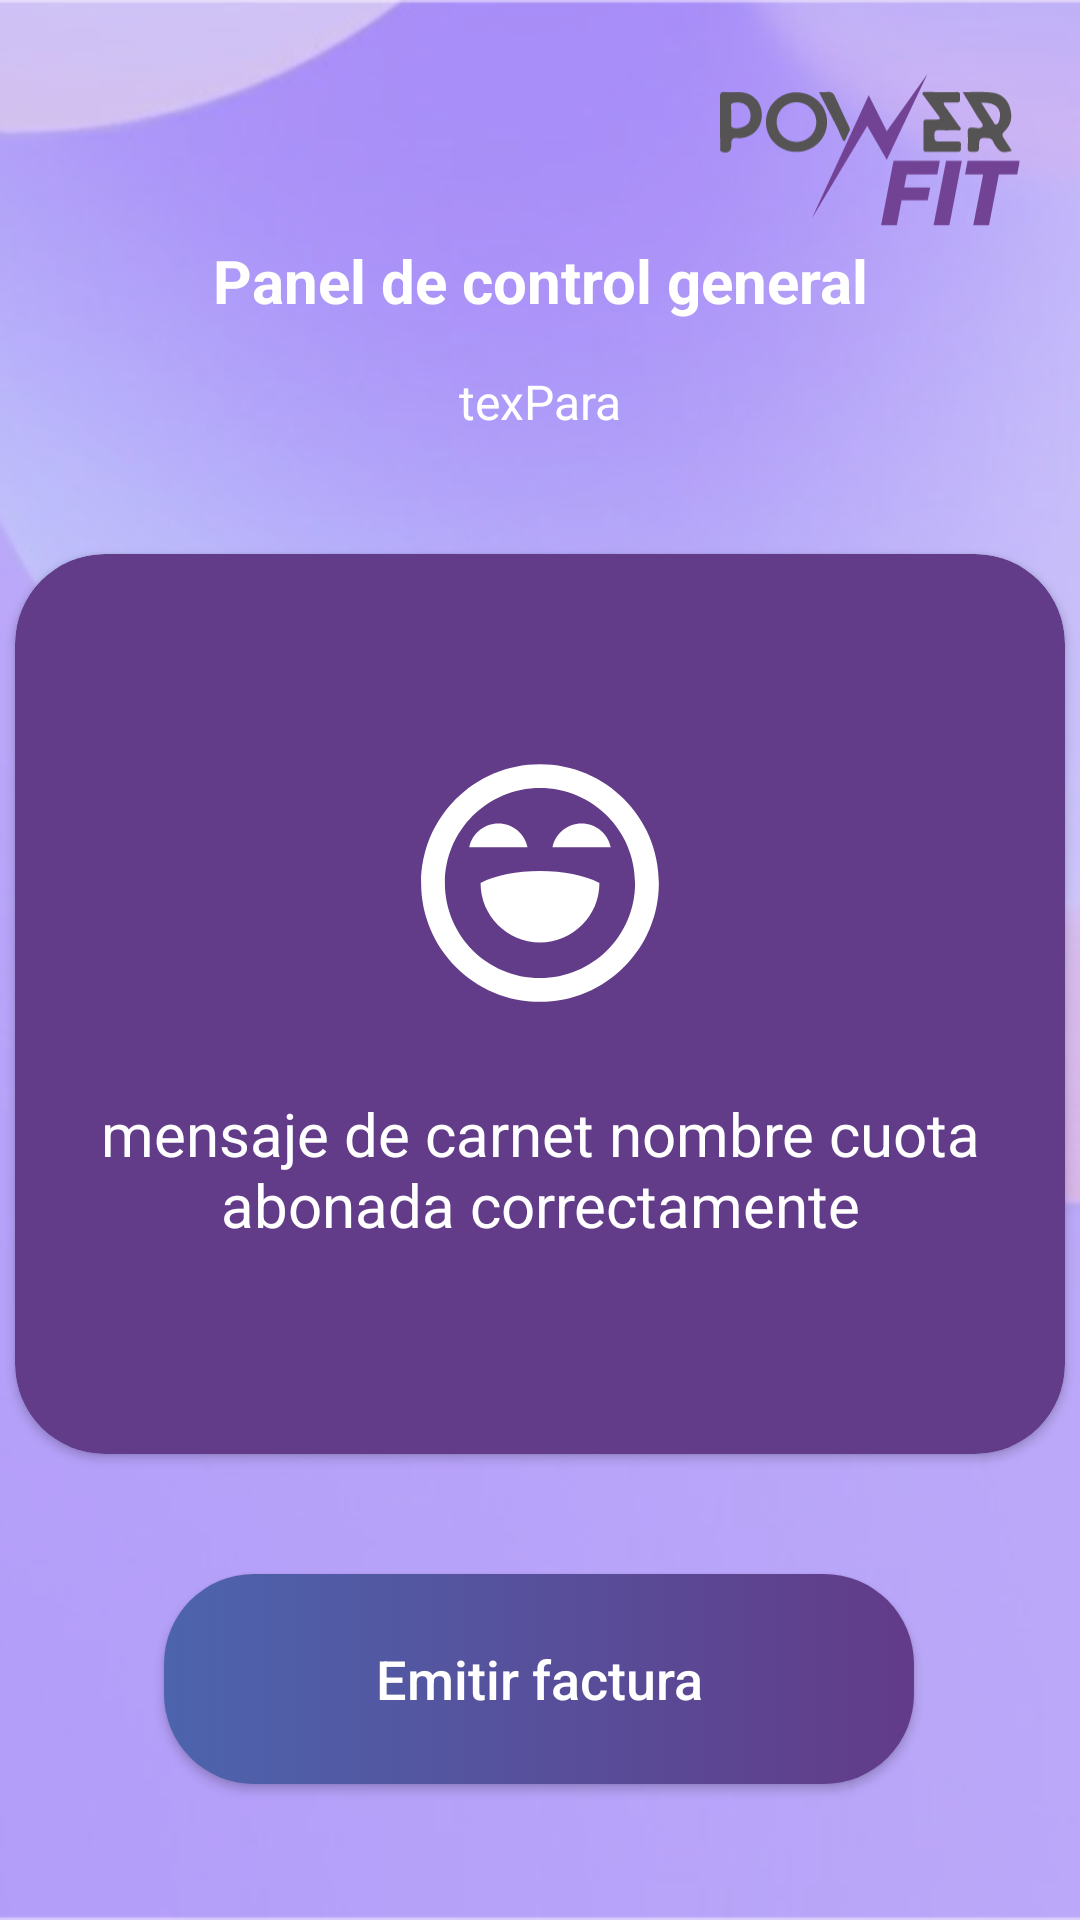

Named icons in this screenshot (1080 x 1920) and their centers, [x,y]:
superhappy: [540,883]
